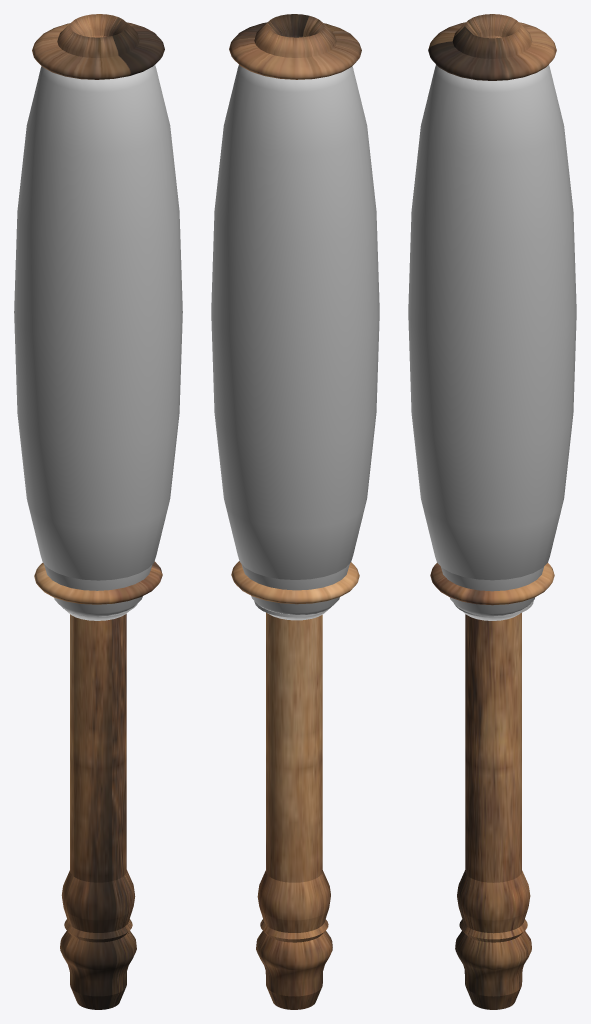
Rendered from new_pemukul_kempul_slenthem.FBX.
The picture shows the model from 3 angles, left to right: view 1: azimuth 30°, elevation 25°; view 2: azimuth 150°, elevation 25°; view 3: azimuth 270°, elevation 25°; orthographic projection.
Visible parts, largest first — view 1: pelog_kethuk_pemukul2; view 2: pelog_kethuk_pemukul2; view 3: pelog_kethuk_pemukul2.
Boxes of the visible parts, x1,y1,x2,y2 form: pelog_kethuk_pemukul2: [14, 14, 182, 1009]; pelog_kethuk_pemukul2: [211, 14, 379, 1009]; pelog_kethuk_pemukul2: [408, 14, 576, 1009].
Bounding box in the file's own units: 1.03 × 6.61 × 1.03.
